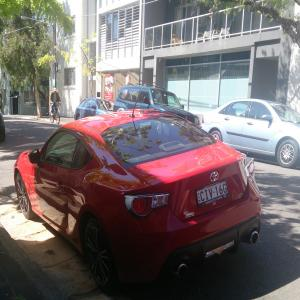Vehicle-registration-plate: (201, 183, 233, 214)
